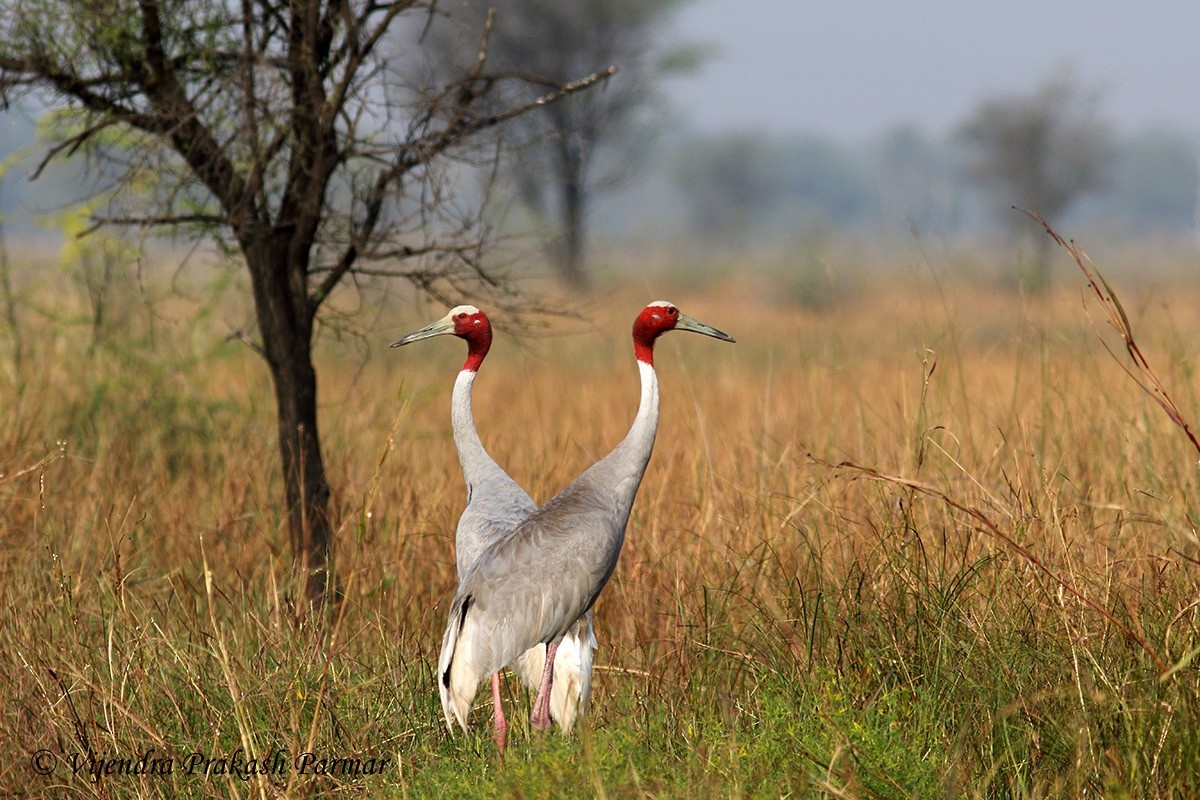crane: (447, 293, 738, 761), (382, 303, 528, 537)
